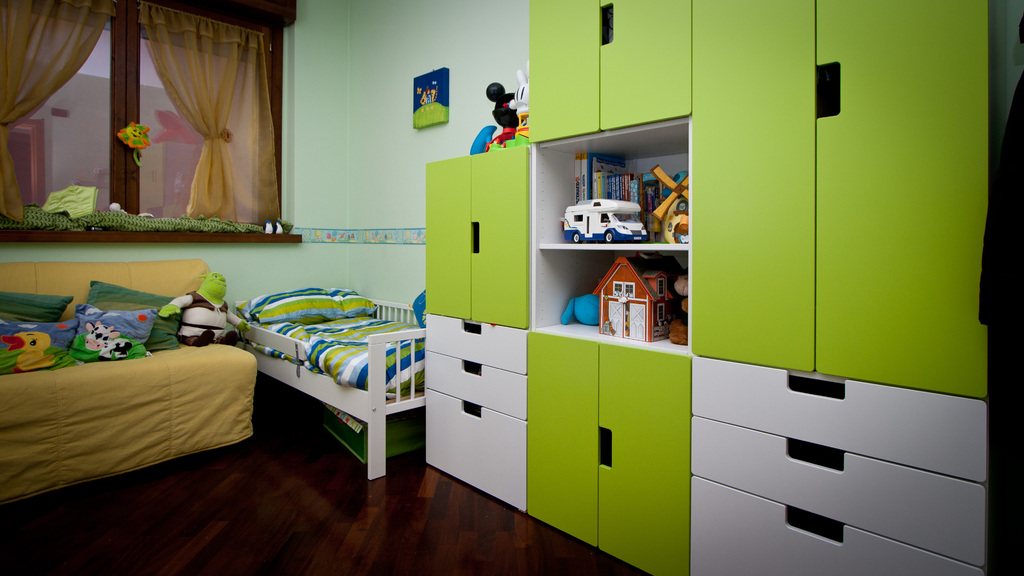cabinet door: (819, 10, 990, 390), (695, 20, 827, 370), (718, 433, 999, 553), (707, 369, 1010, 462), (696, 484, 961, 576), (599, 354, 697, 561), (526, 337, 590, 536), (471, 156, 530, 322), (602, 6, 685, 121), (435, 396, 523, 491), (424, 163, 476, 321), (531, 4, 601, 118), (426, 356, 526, 408), (430, 322, 530, 371)
handle: (774, 433, 860, 488), (782, 499, 860, 552), (808, 41, 851, 130), (776, 364, 856, 407), (590, 420, 622, 477), (454, 396, 495, 423), (594, 3, 617, 50), (465, 215, 483, 262), (459, 358, 486, 380), (459, 318, 486, 337)
